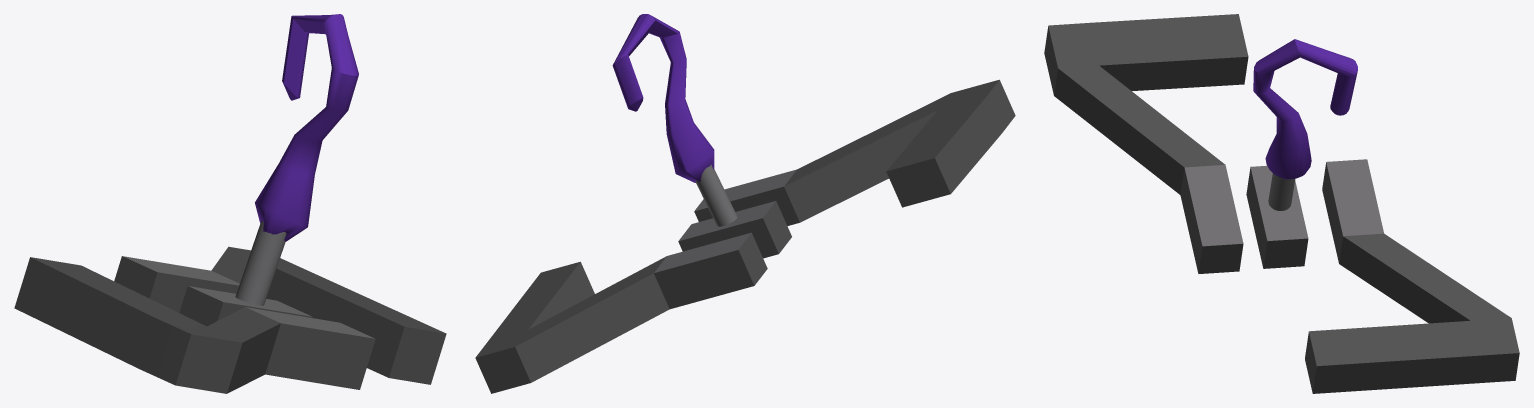
The model's file is ThrustHandle.fbx.
3 renders of one model, left to right at view 1: azimuth 30°, elevation 25°; view 2: azimuth 150°, elevation 25°; view 3: azimuth 270°, elevation 25°, orthographic. The views are drawn at different scales.
Parts seen in each view (by area): view 1: ForwardPanel, ReversePanel, pSphere1, pCylinder21, NeutralPanel; view 2: ReversePanel, ForwardPanel, pSphere1, NeutralPanel, pCylinder21; view 3: ForwardPanel, ReversePanel, pSphere1, NeutralPanel, pCylinder21.
Part boxes in pixels (x1,y1,x2,y2): ForwardPanel: (14,257,375,393); ReversePanel: (114,246,446,384); pSphere1: (255,14,358,241); pCylinder21: (235,220,286,305); NeutralPanel: (179,286,312,326); ReversePanel: (475,232,767,393); ForwardPanel: (694,79,1015,225); pSphere1: (612,14,714,182); NeutralPanel: (678,201,791,258); pCylinder21: (695,164,737,226); ForwardPanel: (1044,14,1248,273); ReversePanel: (1305,159,1519,393); pSphere1: (1253,39,1357,179); NeutralPanel: (1246,165,1308,268); pCylinder21: (1268,173,1295,210).
Size of the model in its own units: 5.34 by 4.31 by 5.86.
